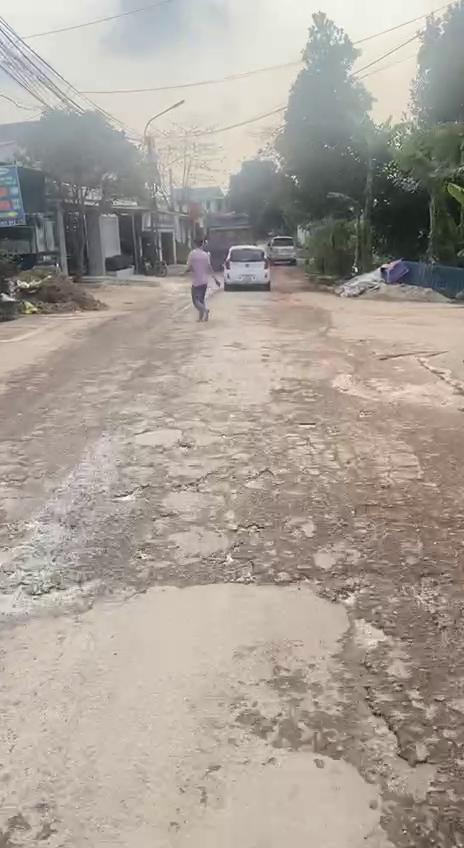pothole: (322, 614, 464, 848), (278, 558, 366, 608), (0, 578, 93, 615), (414, 568, 459, 630), (216, 550, 260, 585), (112, 485, 152, 504)
